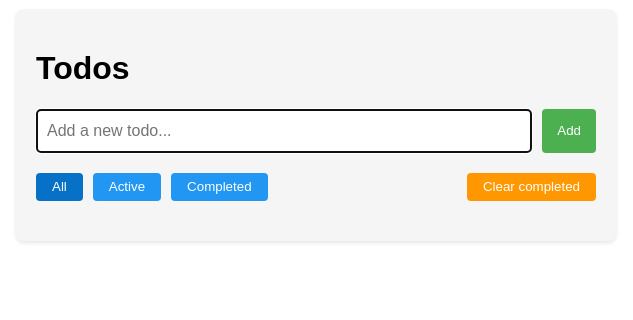
Test: Todos App › should trim whitespaces when adding a todo item
In the field with placeholder "Add a new todo...": (284, 131) [36, 109, 532, 153], type "   Trim this    "
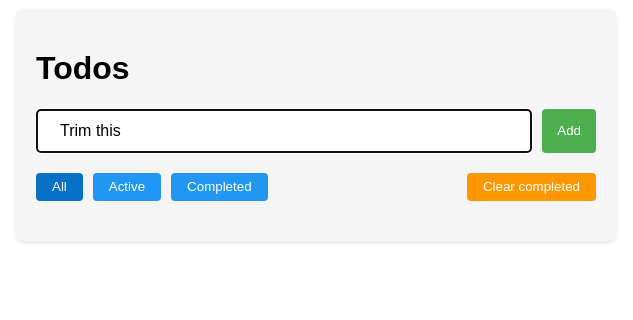
Click the button "Add": (569, 131) [542, 109, 596, 153]
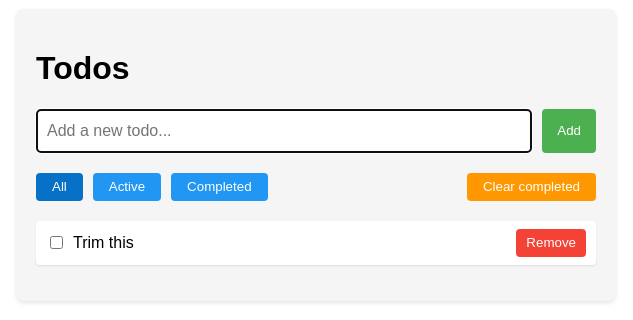
Now the text "Trim this" is shown, box [73, 234, 134, 251]
Now the field with placeholder "Add a new todo..." is empty, box [36, 109, 532, 153]
